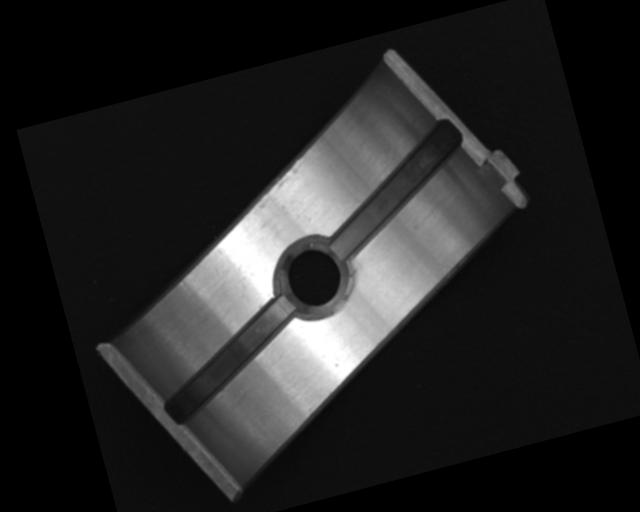gap: (307, 112, 483, 262), (147, 294, 316, 427)
hole: (274, 235, 354, 327)
